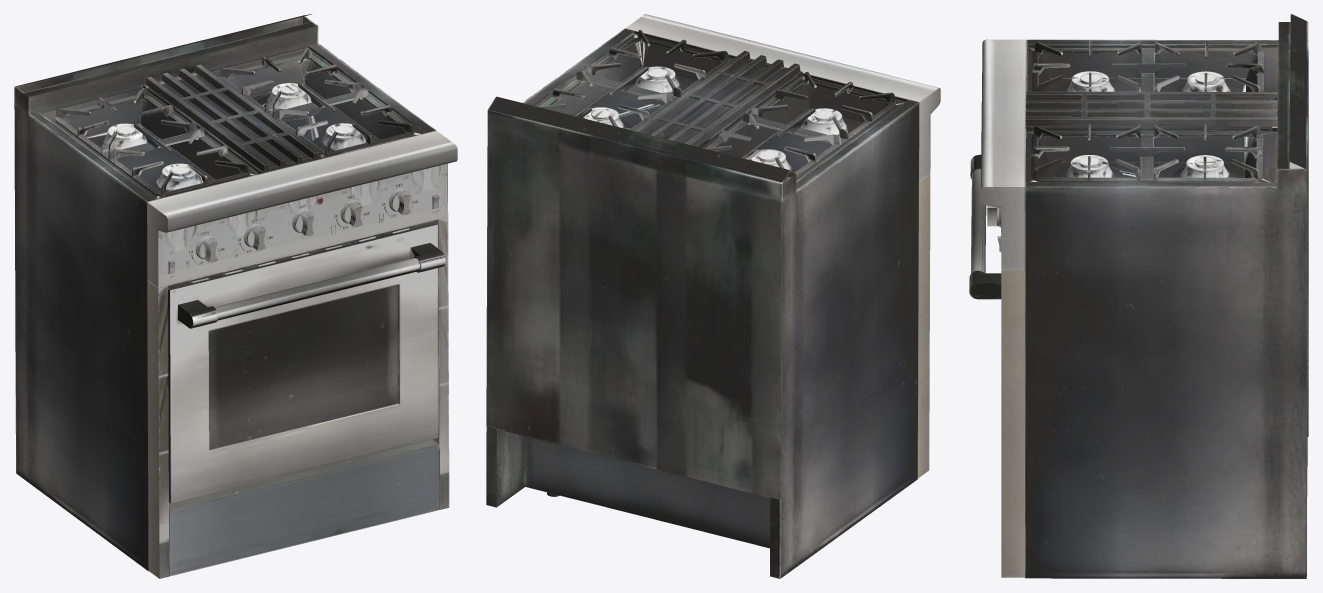
3 views of the same model, side by side, from view 1: azimuth 30°, elevation 25°; view 2: azimuth 150°, elevation 25°; view 3: azimuth 270°, elevation 25° (orthographic). The views are drawn at different scales.
Visible parts, largest first — view 1: geometry_0, world.001; view 2: geometry_0; view 3: geometry_0, world.001.
Part boxes in pixels (x1,y1,x2,y2): geometry_0: [14, 14, 457, 578]; world.001: [168, 221, 445, 503]; geometry_0: [486, 14, 940, 578]; geometry_0: [981, 14, 1308, 578]; world.001: [969, 154, 1001, 299].
Bounding box in the file's own units: 0.754 × 1 × 0.7198.
1 material, 1 textured.
